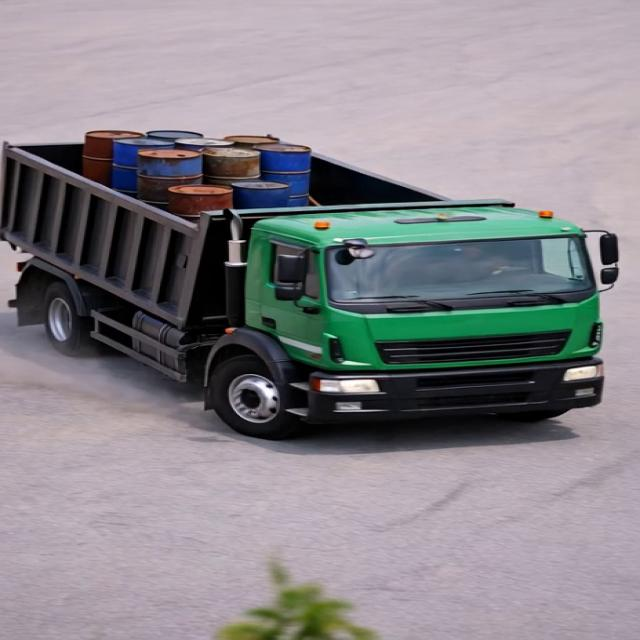trailer: (0, 104, 521, 205)
truck: (0, 101, 631, 430)
